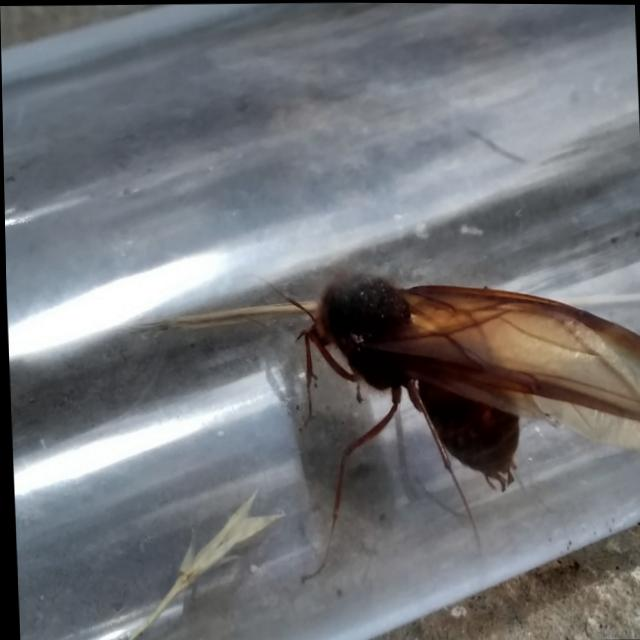Alive-Male-Alate: (265, 264, 640, 587)
